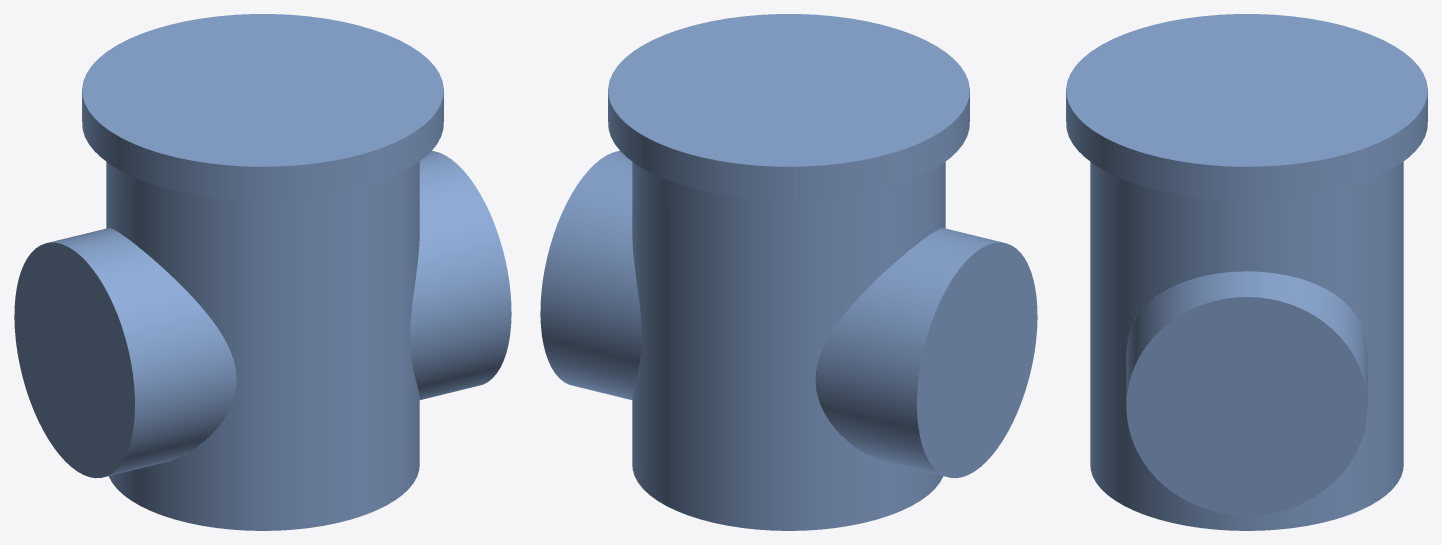
File: step_08.glb
The picture shows the model from 3 angles, left to right: view 1: azimuth 30°, elevation 25°; view 2: azimuth 150°, elevation 25°; view 3: azimuth 270°, elevation 25°; orthographic projection.
Visible parts, largest first — view 1: part__body top valve; view 2: part__body top valve; view 3: part__body top valve.
Boxes of the visible parts, <box> form: part__body top valve: <box>14,14,511,530</box>; part__body top valve: <box>540,14,1037,530</box>; part__body top valve: <box>1066,14,1427,530</box>.
Bounding box in the file's own units: 144 × 137 × 120.
